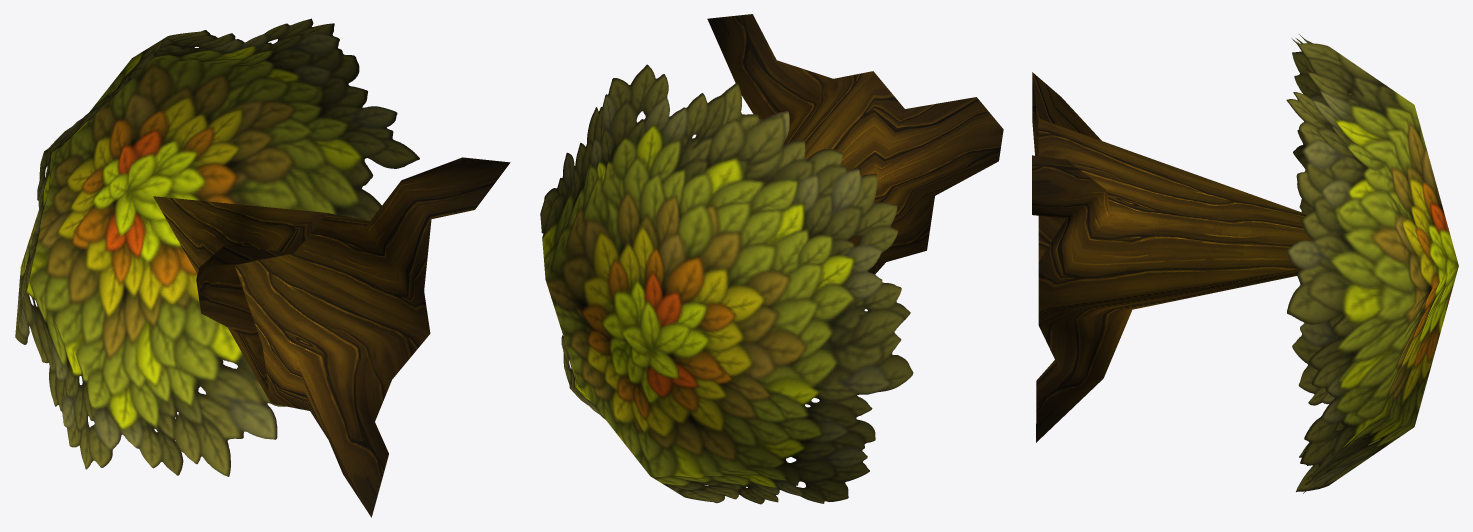
File: Tree 02.FBX
3 renders of one model, left to right at view 1: azimuth 30°, elevation 25°; view 2: azimuth 150°, elevation 25°; view 3: azimuth 270°, elevation 25°, orthographic. The views are drawn at different scales.
Parts seen in each view (by area): view 1: env_tree02; view 2: env_tree02; view 3: env_tree02.
Part boxes in pixels (<box>): env_tree02: <box>15,18,510,517</box>; env_tree02: <box>540,14,1003,504</box>; env_tree02: <box>1032,34,1458,493</box>.
Size of the model in its own units: 185 by 207 by 170.
